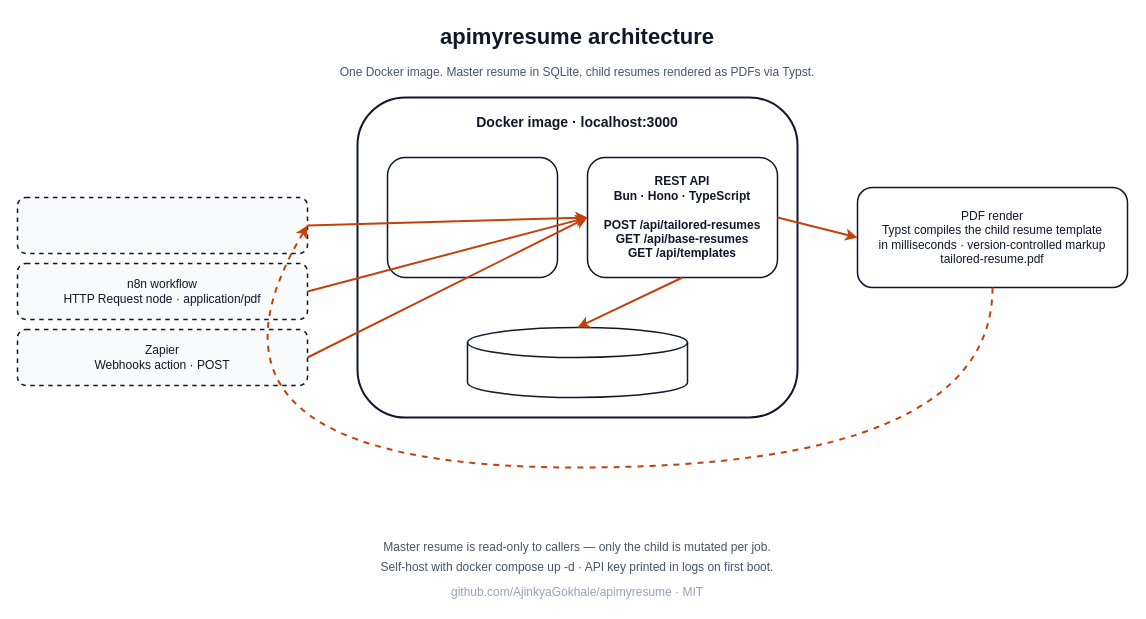
Some shapes in this 1146 by 619 pixel diagram are drawn without their labels. Each missing label, with the centre of its shape:
"AI Agent LLM tool call · LangChain / OpenAI / Claude" goes at pixel 162 225.
"Dashboard (SPA) · Resume editor · PDF preview · API key management Bun-served" goes at pixel 472 217.
"SQLite master + child resumes · one file on a volume" goes at pixel 577 362.
